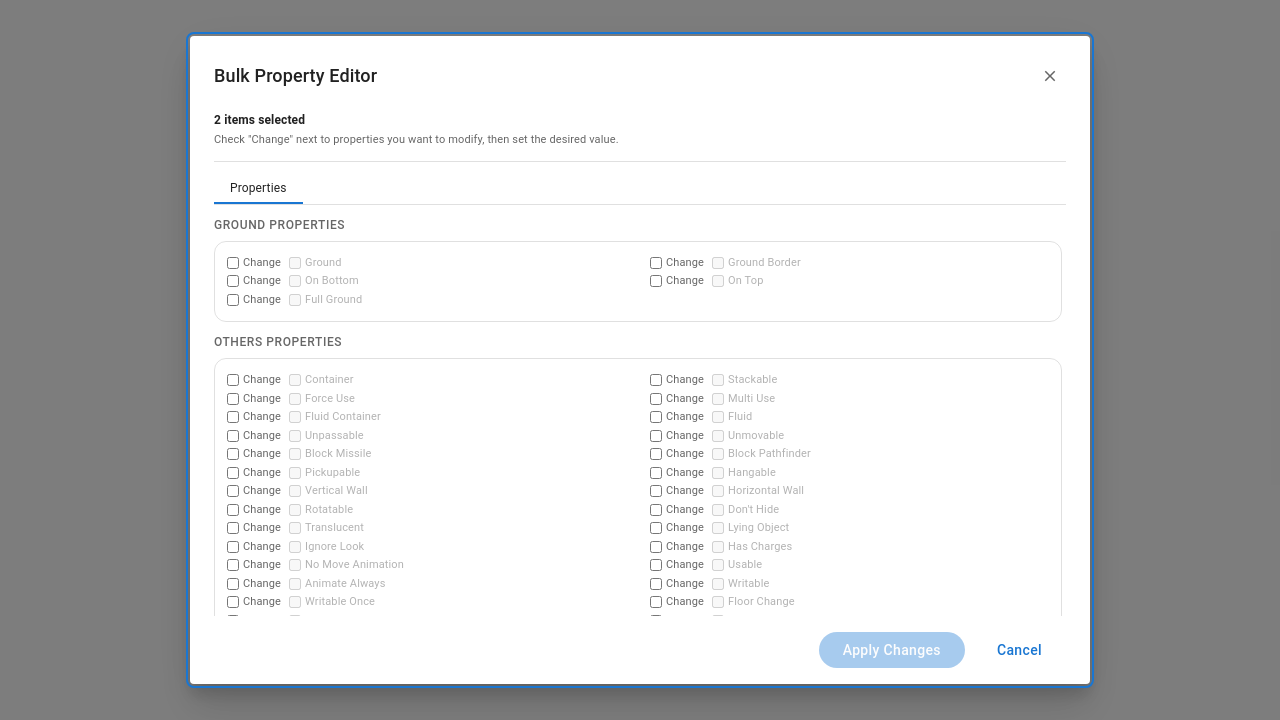
Scenario: BulkEditDialog › BulkPropertyRow: unchecked "Change" disables value checkbox
# Enable then disable
Click the checkbox labelled "Change" in the row of "Stackable" at x=656, y=380, box [650,374,662,386]
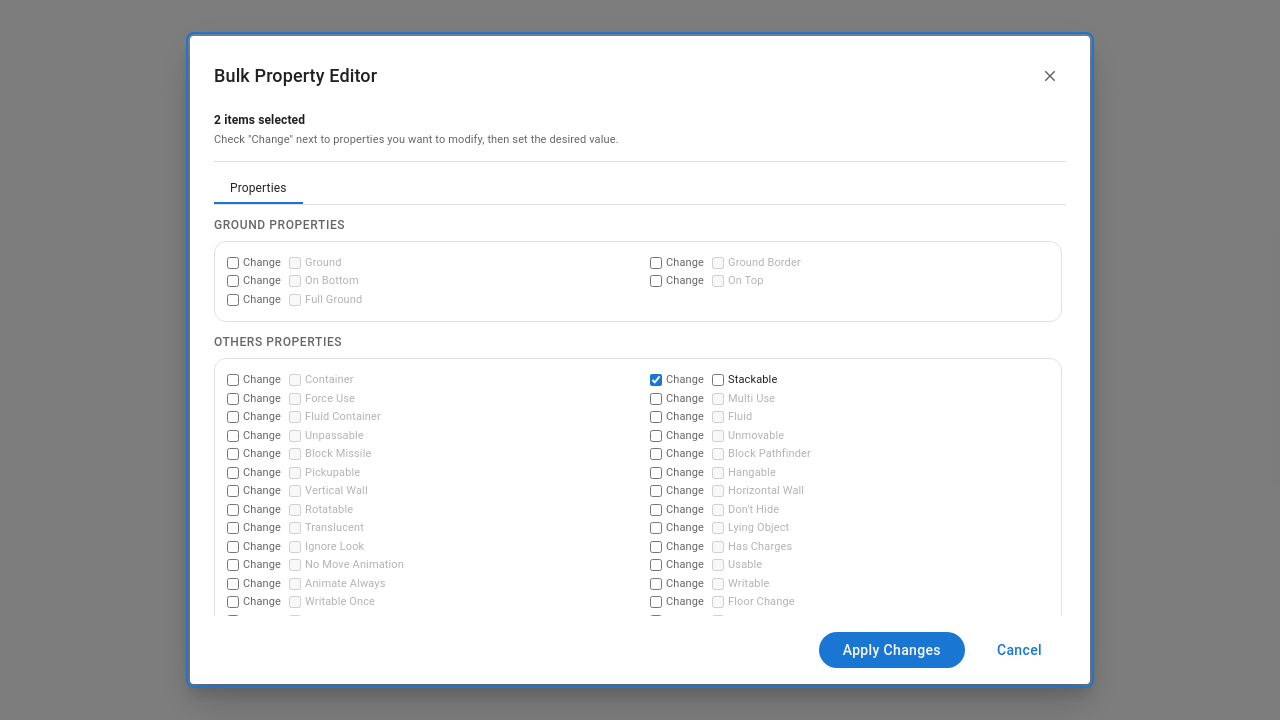
Check: the checkbox labelled "Stackable" is enabled, box [712,374,724,386]
Click the checkbox labelled "Change" in the row of "Stackable" at x=656, y=380, box [650,374,662,386]
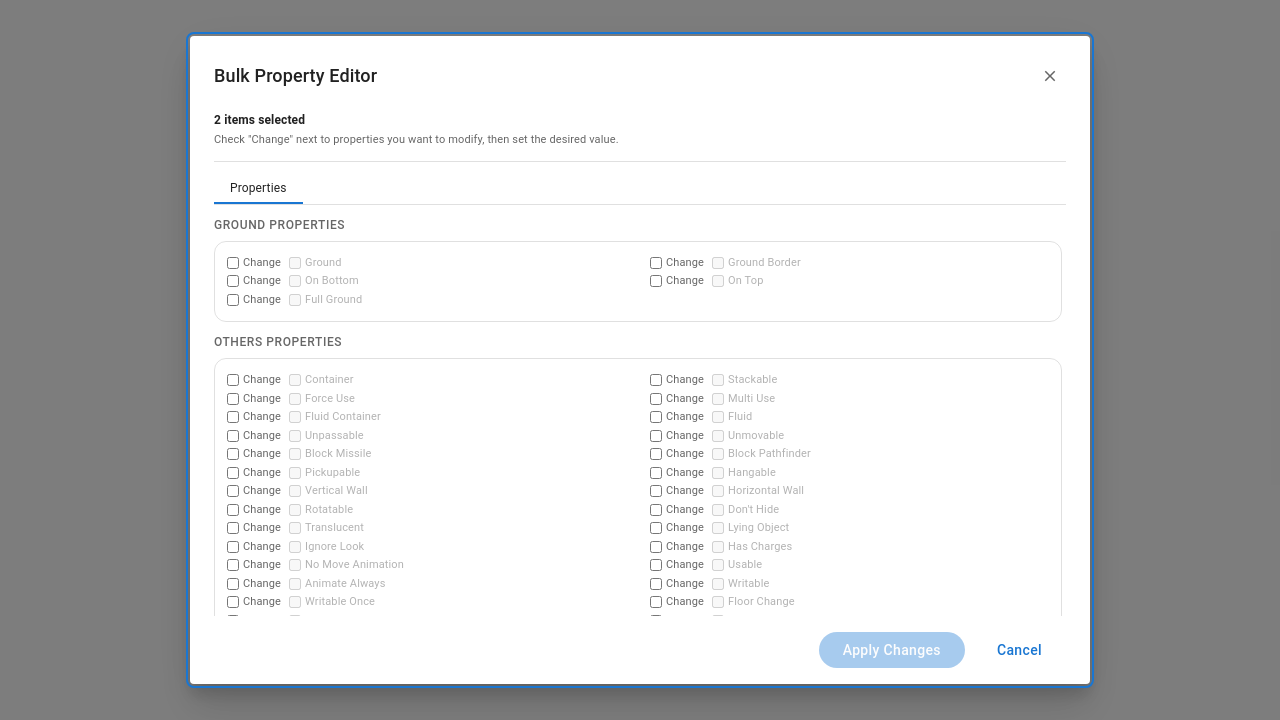
Check: the checkbox labelled "Stackable" is disabled, box [712,374,724,386]
